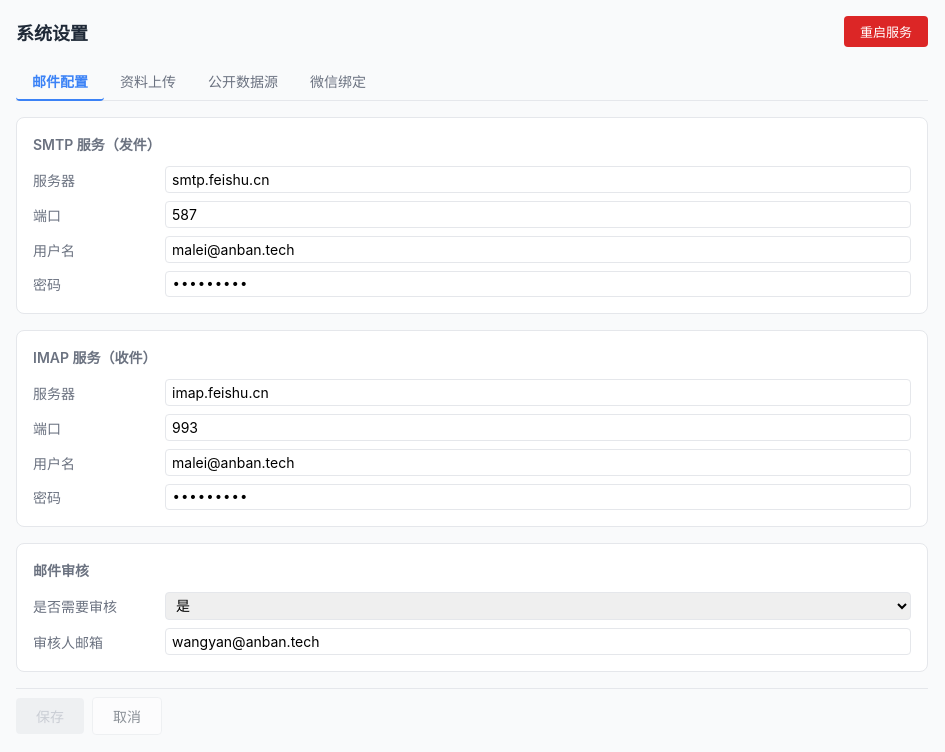
Test: Settings 邮件配置 tab - 常驻可编辑 + 底部统一保存 › 修改任意 input 后 save/cancel 启用
Check: the button with test id "email-config-save" is shown, box [16,698,84,734]
Replace the text in the field with test id "smtp-host" with "smtp.new.cn" at (538, 180), box [165,166,911,193]
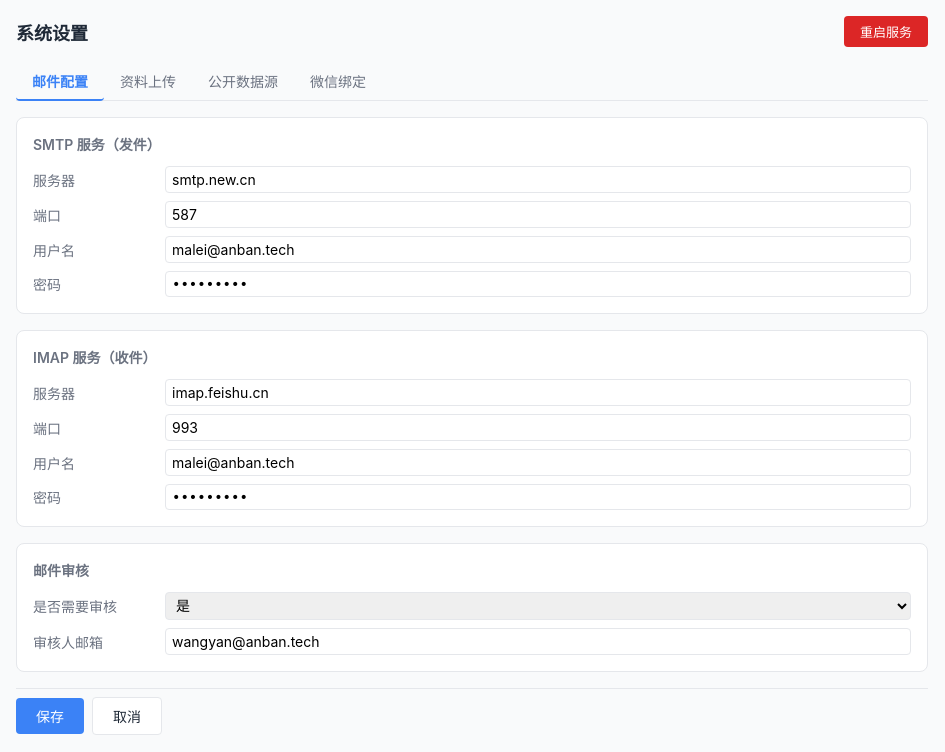
Check: the button with test id "email-config-save" is enabled, box [16,698,84,734]
Check: the button with test id "email-config-cancel" is enabled, box [92,697,162,735]
